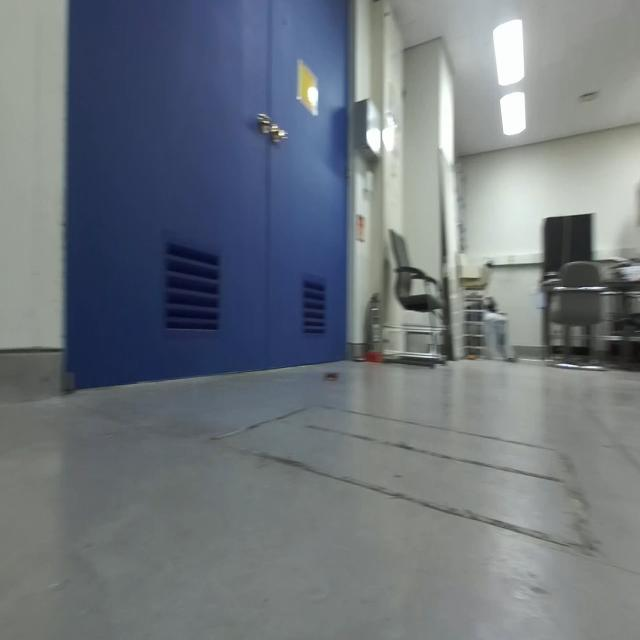crazyflie: (322, 364, 342, 386)
